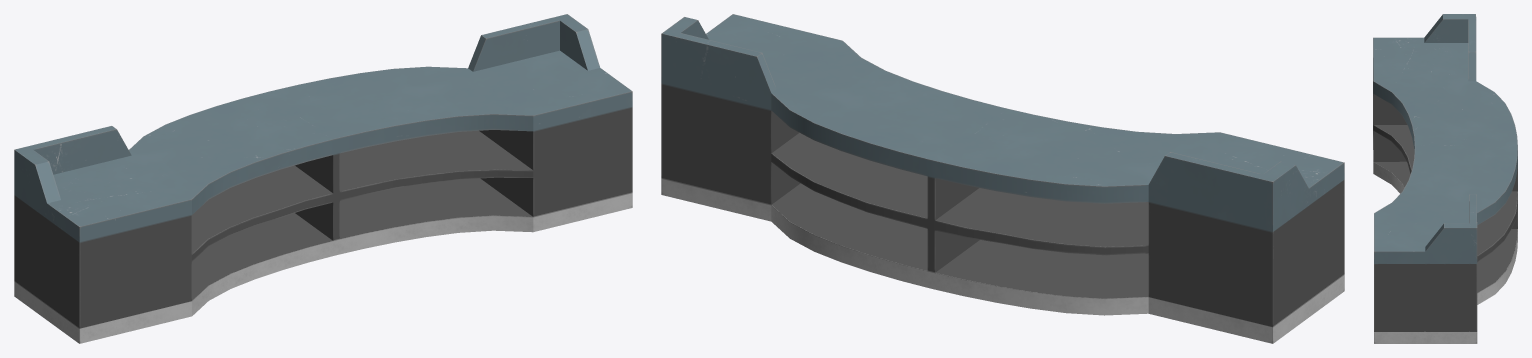
Rendered from Table2.fbx.
3 views of the same model, side by side, from view 1: azimuth 30°, elevation 25°; view 2: azimuth 150°, elevation 25°; view 3: azimuth 270°, elevation 25° (orthographic). The views are drawn at different scales.
Visible parts, largest first — view 1: Table2; view 2: Table2; view 3: Table2.
Boxes of the visible parts, x1,y1,x2,y2 form: Table2: (14,14,632,343); Table2: (661,14,1344,343); Table2: (1373,14,1517,343).
Size of the model in its own units: 1966 by 498 by 562.
